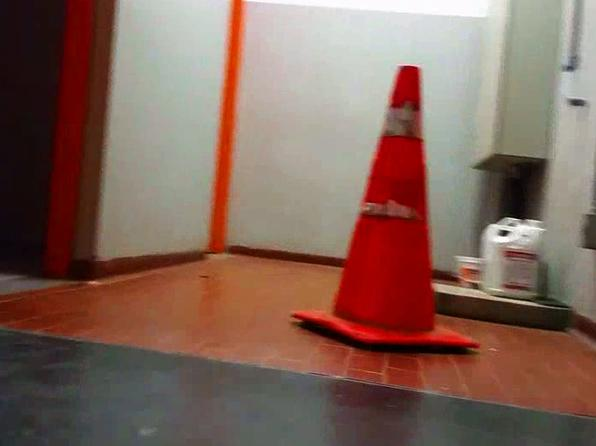0 cone: (290, 66, 476, 347)
